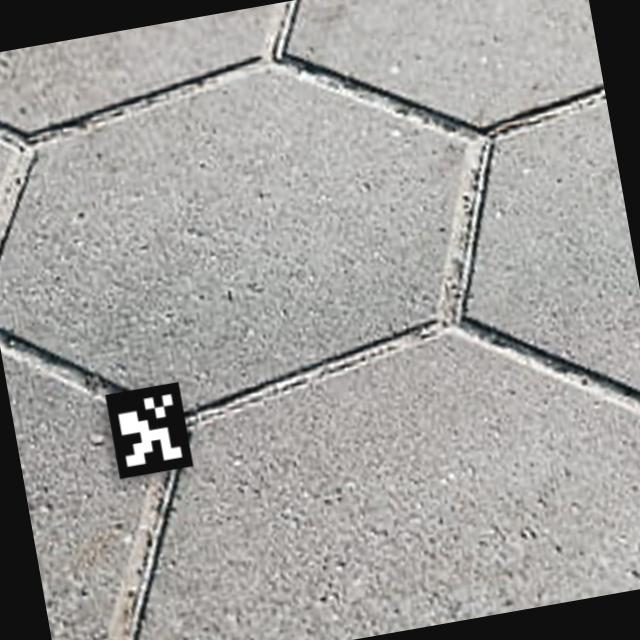marker: (90, 370, 205, 491)
